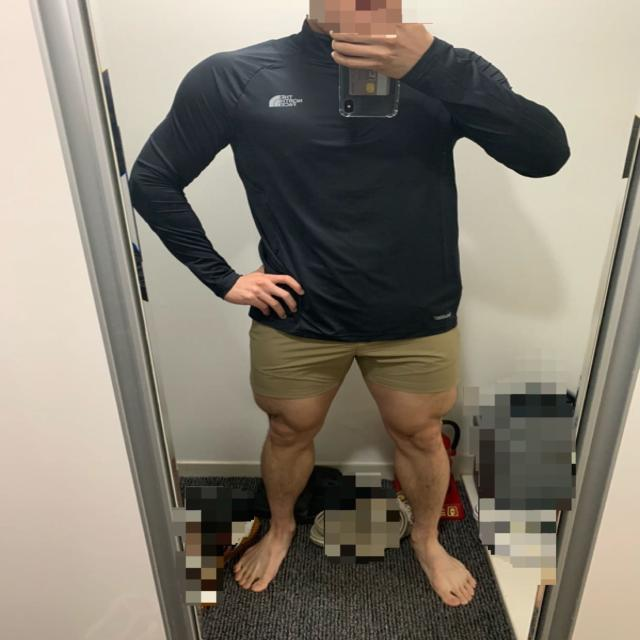longsleeve: (128, 25, 570, 342)
shortpants: (252, 312, 460, 402)
